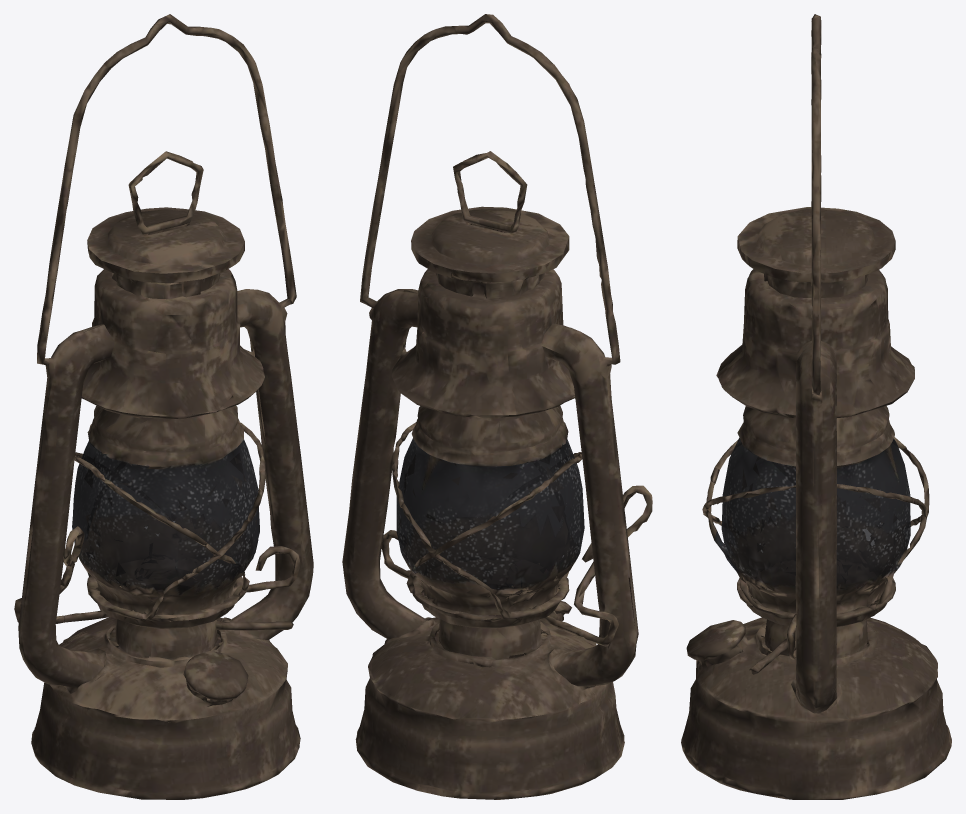
Rendered from hurricane-lantern_final.glb.
3 renders of one model, left to right at view 1: azimuth 30°, elevation 25°; view 2: azimuth 150°, elevation 25°; view 3: azimuth 270°, elevation 25°, orthographic.
Parts seen in each view (by area): view 1: SM_HurricaneLantern; view 2: SM_HurricaneLantern; view 3: SM_HurricaneLantern.
Boxes of the visible parts, x1,y1,x2,y2 form: SM_HurricaneLantern: [14, 14, 313, 799]; SM_HurricaneLantern: [342, 14, 652, 799]; SM_HurricaneLantern: [681, 14, 951, 799].
Bounding box in the file's own units: 0.1599 × 0.3809 × 0.1282.
2 materials, 2 textured.
